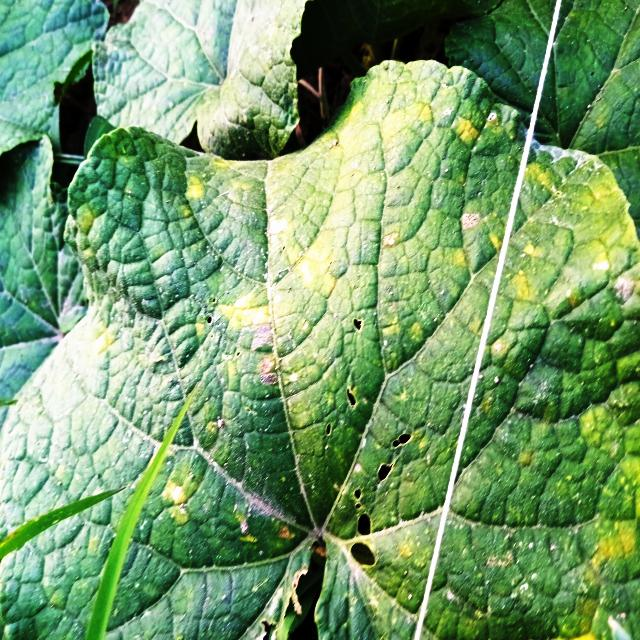Downy-Mildew: (0, 62, 640, 640)
